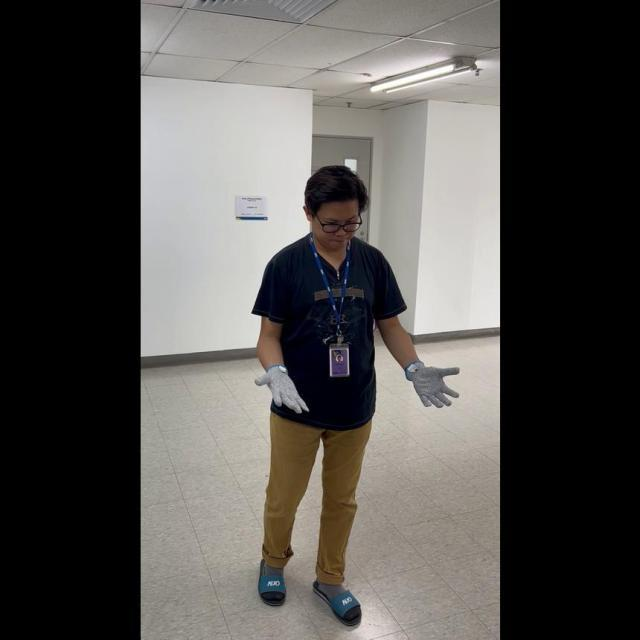gloved_hand: (401, 354, 459, 409), (255, 360, 310, 417)
